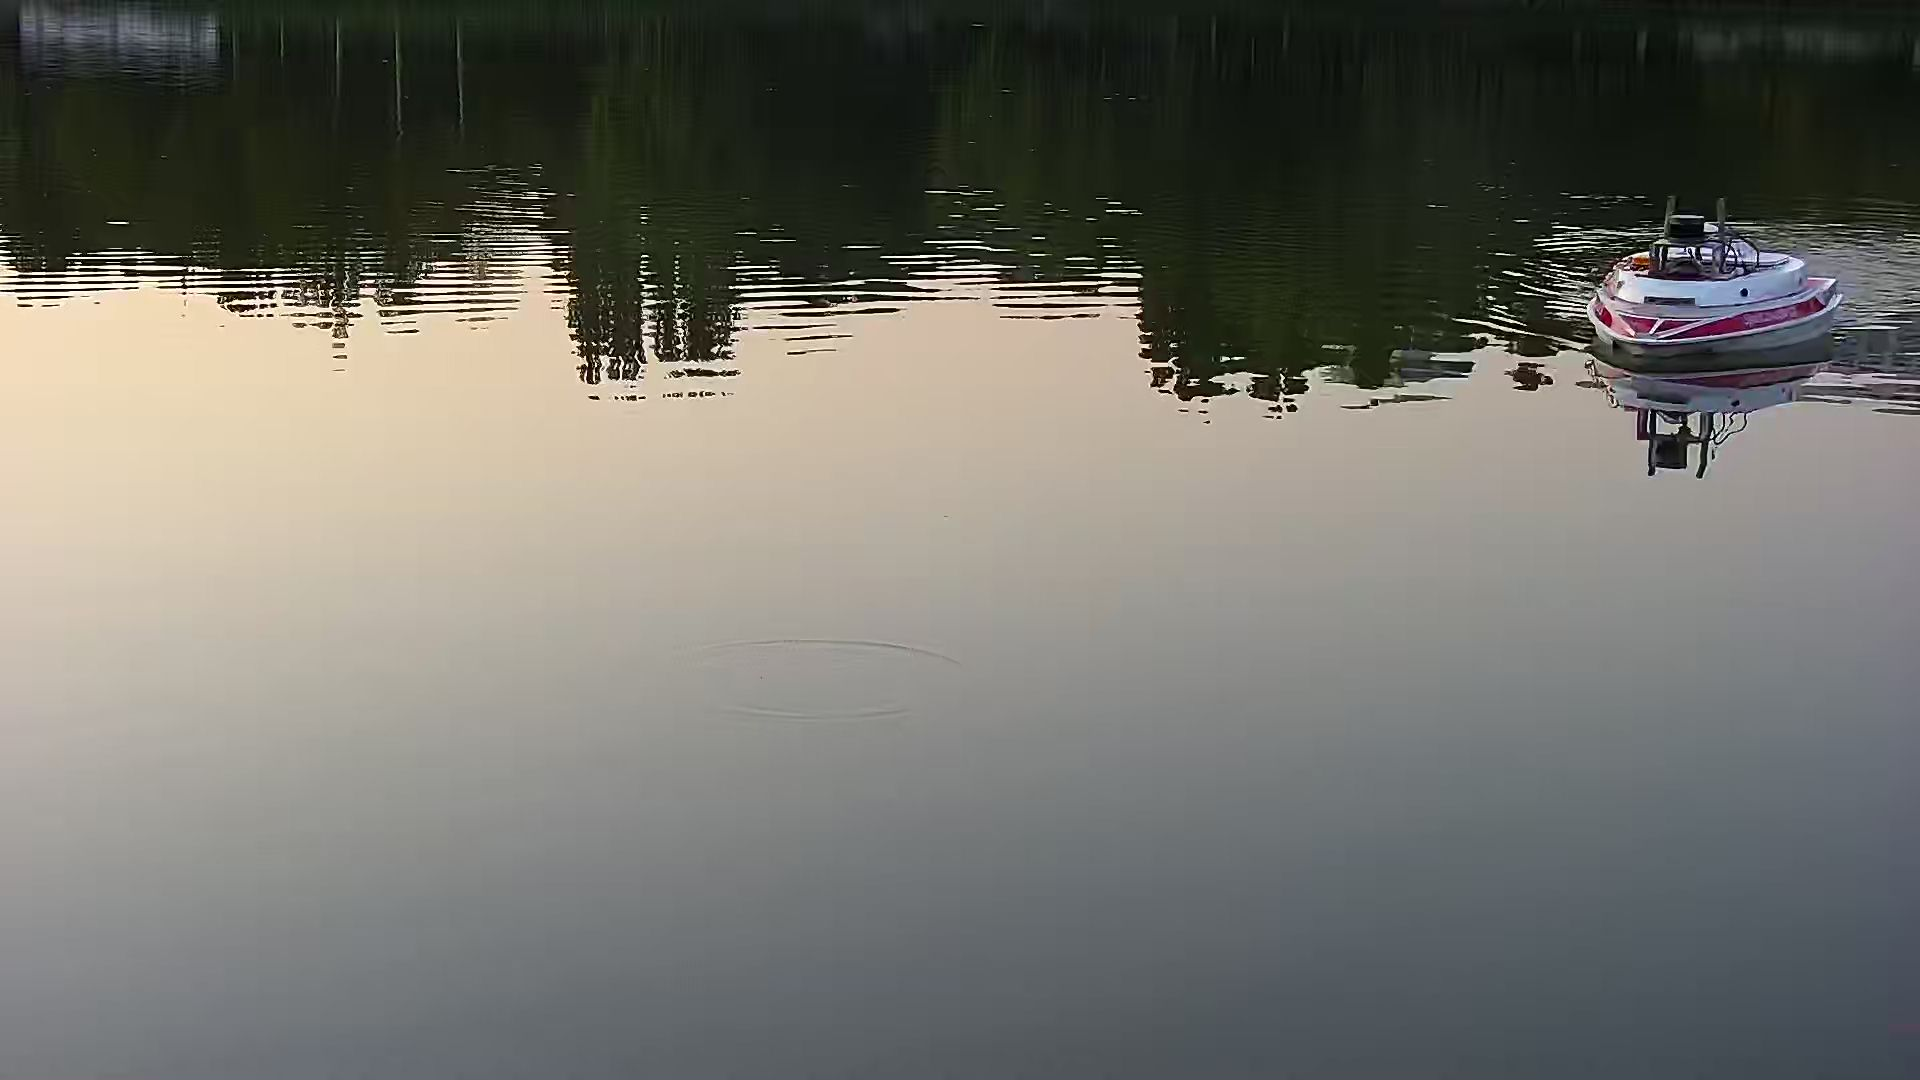boat: (1592, 199, 1841, 376)
